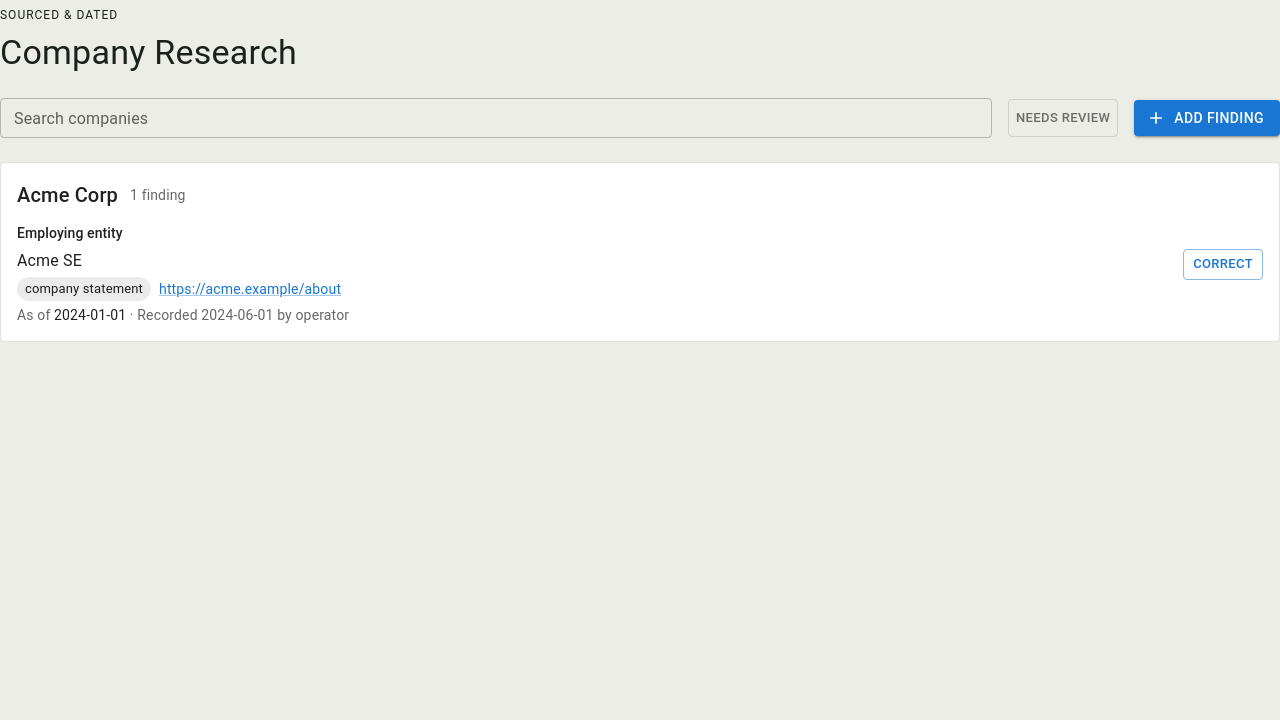
Test: CompanyResearchPage › opens a prefilled dialog when Correct is clicked
Check: the text "Acme SE" is shown, box [17, 251, 82, 270]
Click the button "Correct".
click(1223, 264)  # box [1183, 249, 1263, 280]
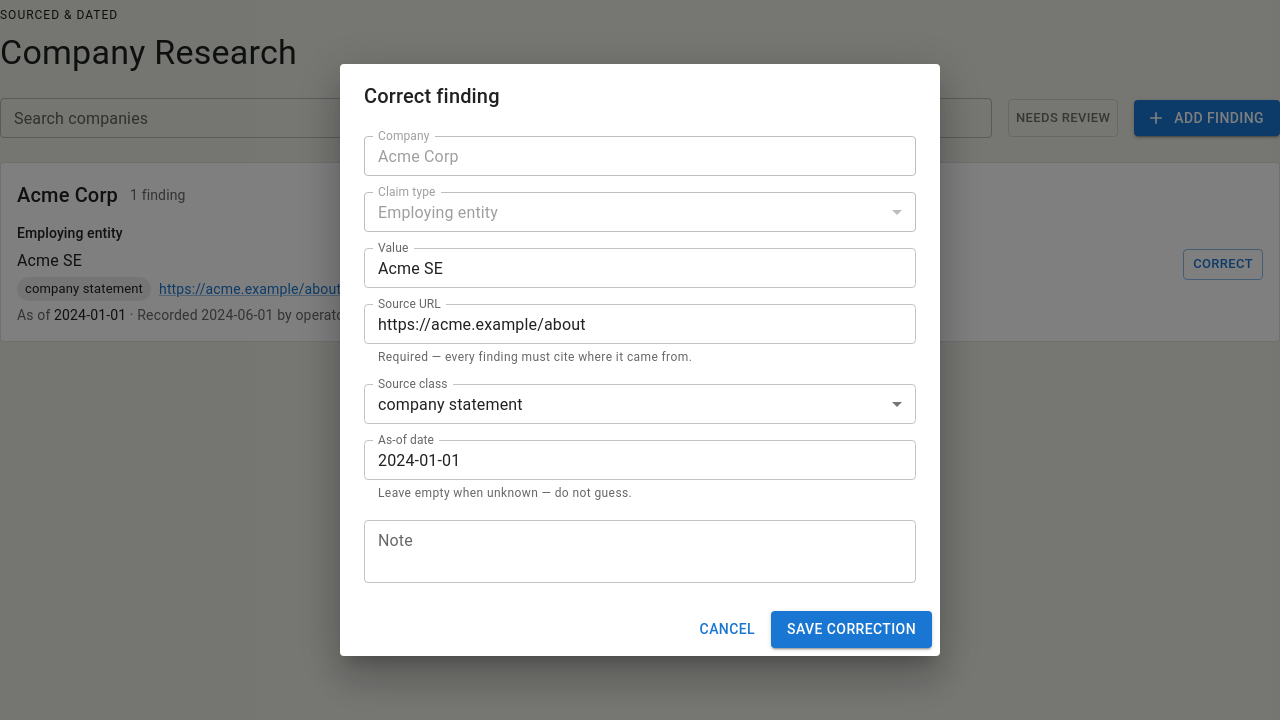
Check: the heading "Correct finding" is shown, box [364, 84, 500, 108]
Check: the field labelled "Value" holds "Acme SE", box [364, 248, 916, 288]
Check: the dropdown labelled "Company" is disabled, box [370, 142, 907, 170]
